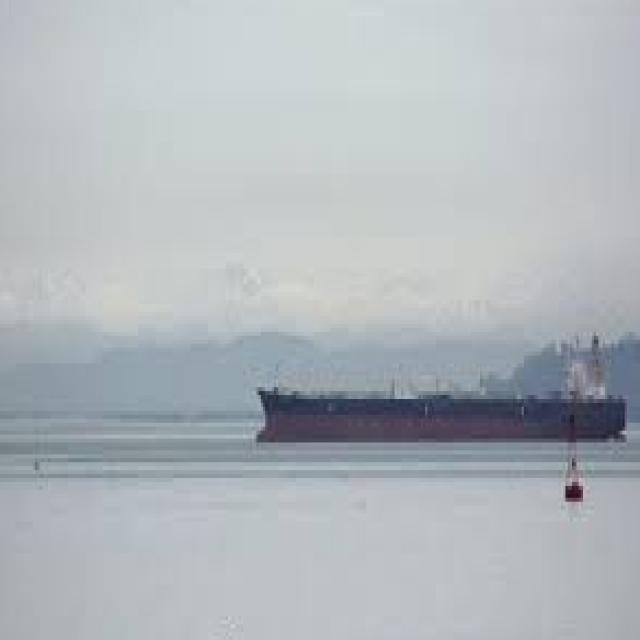cargoship: (250, 325, 630, 450)
